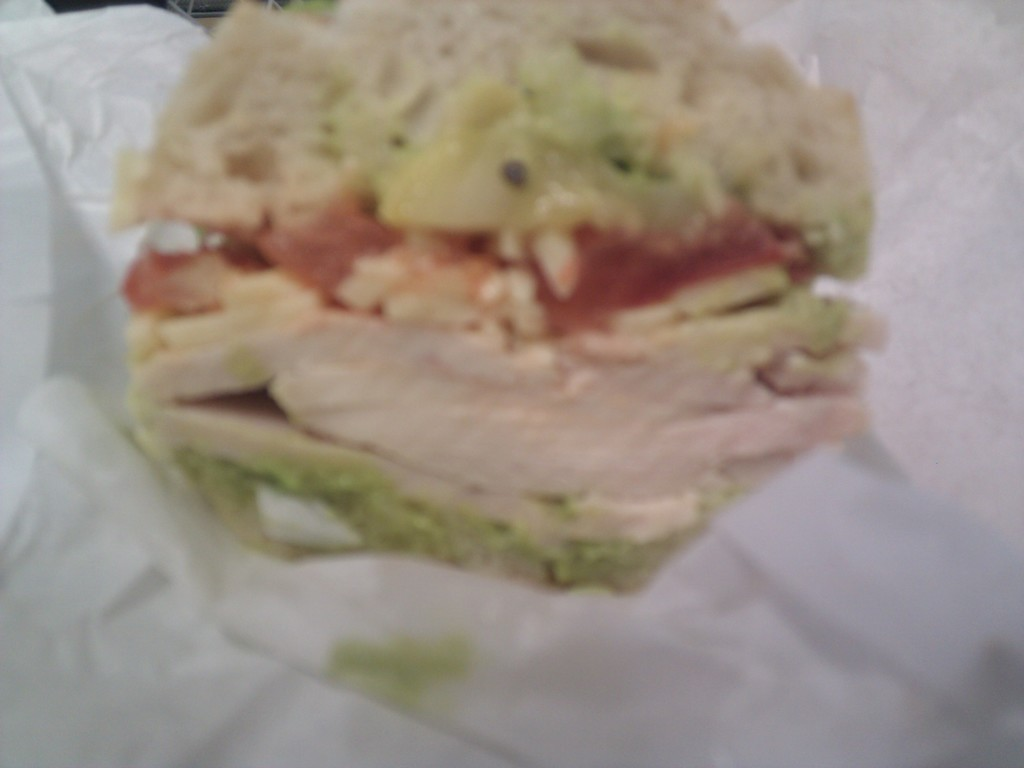sandwich: (109, 0, 890, 601)
